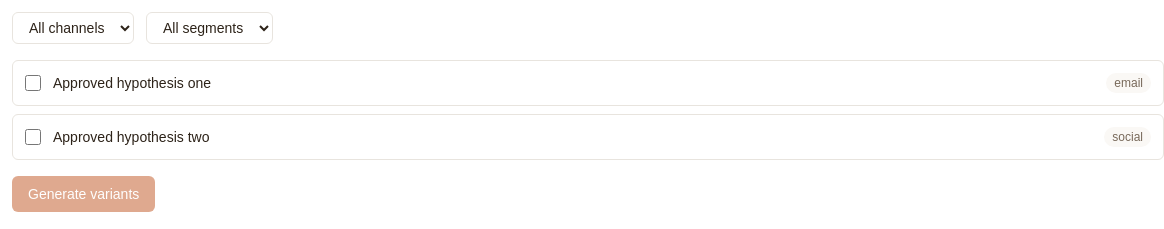
FramePicker › "Generate variants" button is enabled after selecting a frame
Click the checkbox labelled "Approved hypothesis one email". click: x=33, y=83
box: [25,75,41,91]
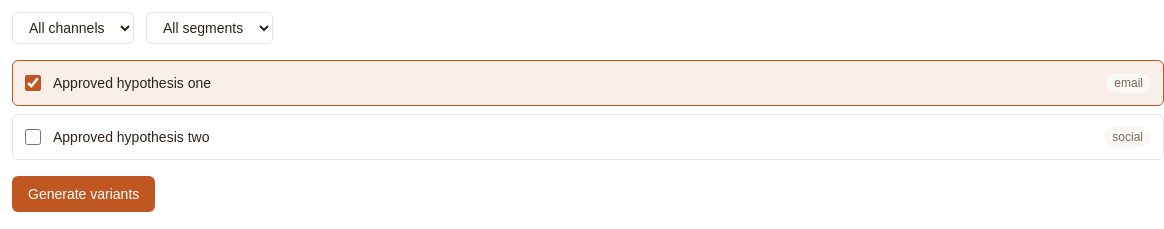
Expected: the button "Generate variants" is enabled, [12,176,155,212]
